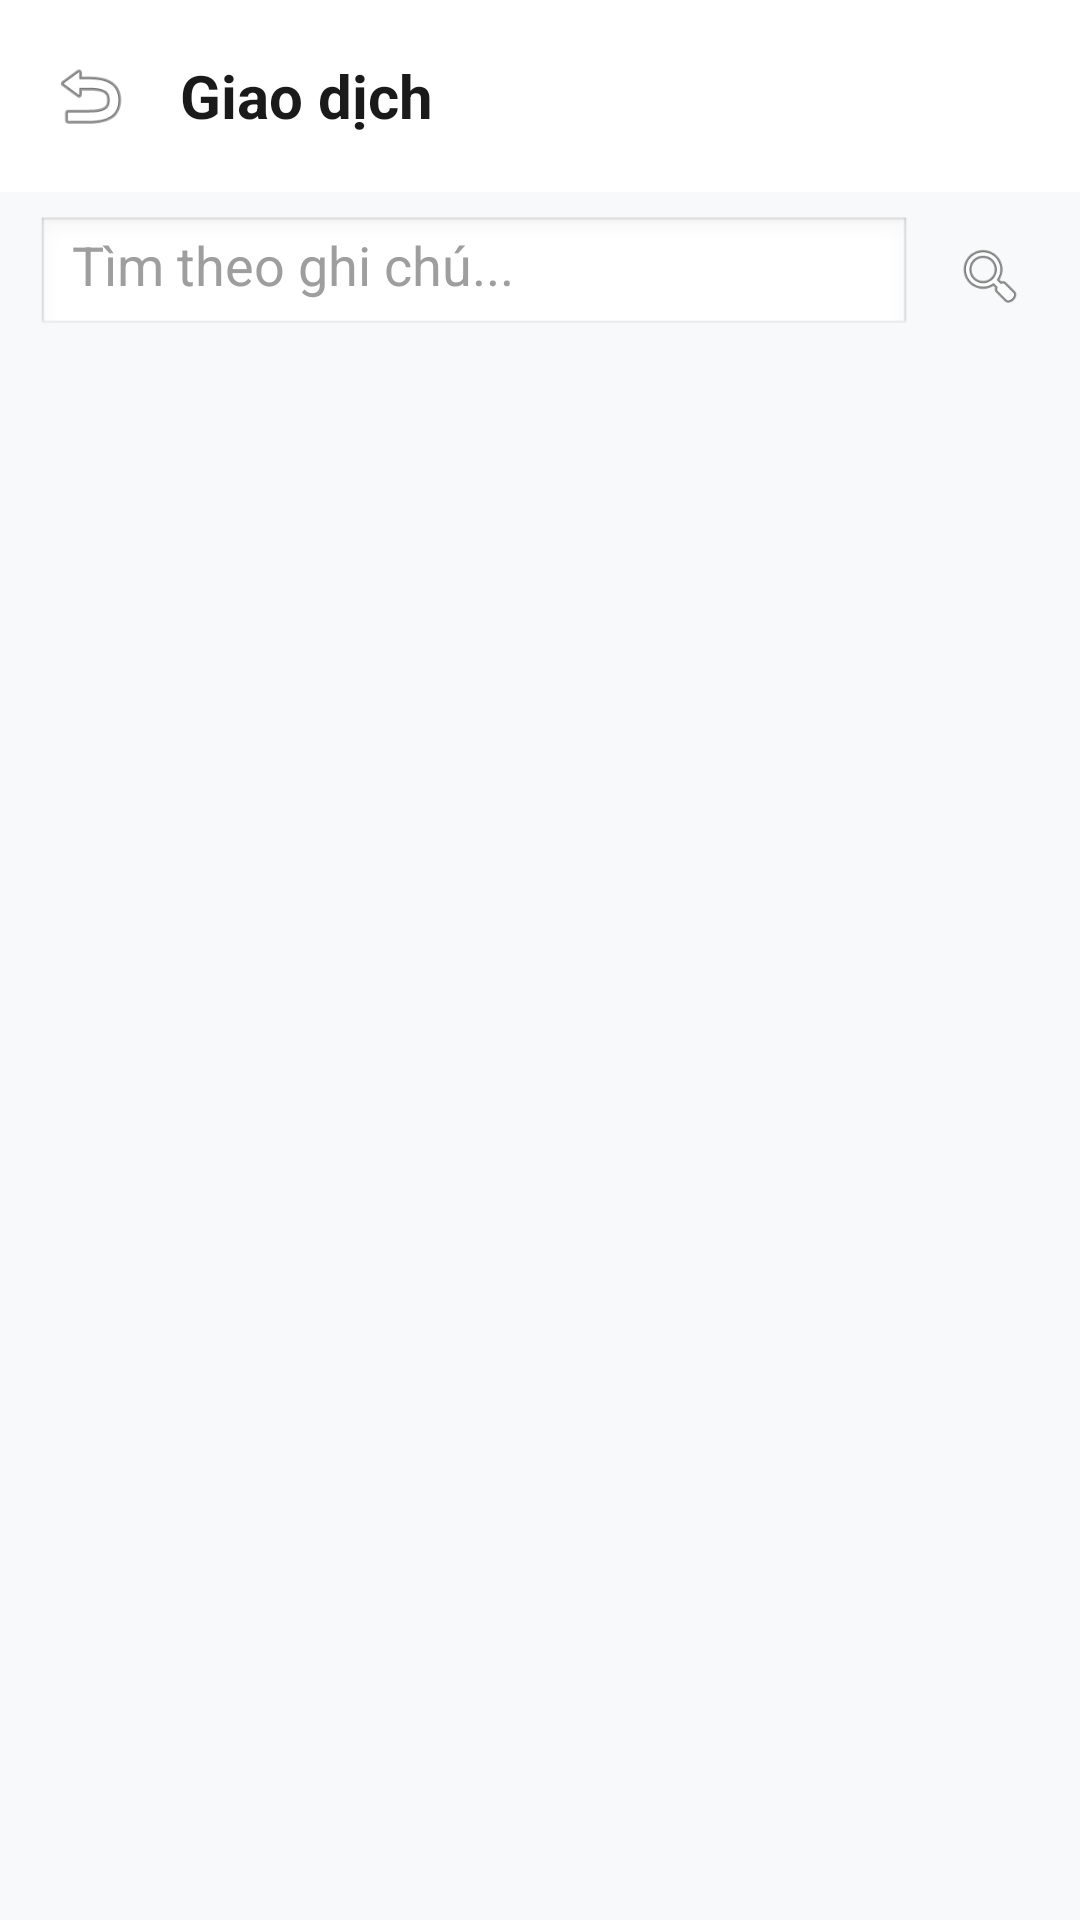

Where icons sit on this 1080px×1920px app screen, as {"x1": x1, "y1": y1, "x2": x2, "y2": y2}:
revert: {"x1": 61, "y1": 69, "x2": 122, "y2": 124}
Search transaction: {"x1": 963, "y1": 250, "x2": 1017, "y2": 303}
